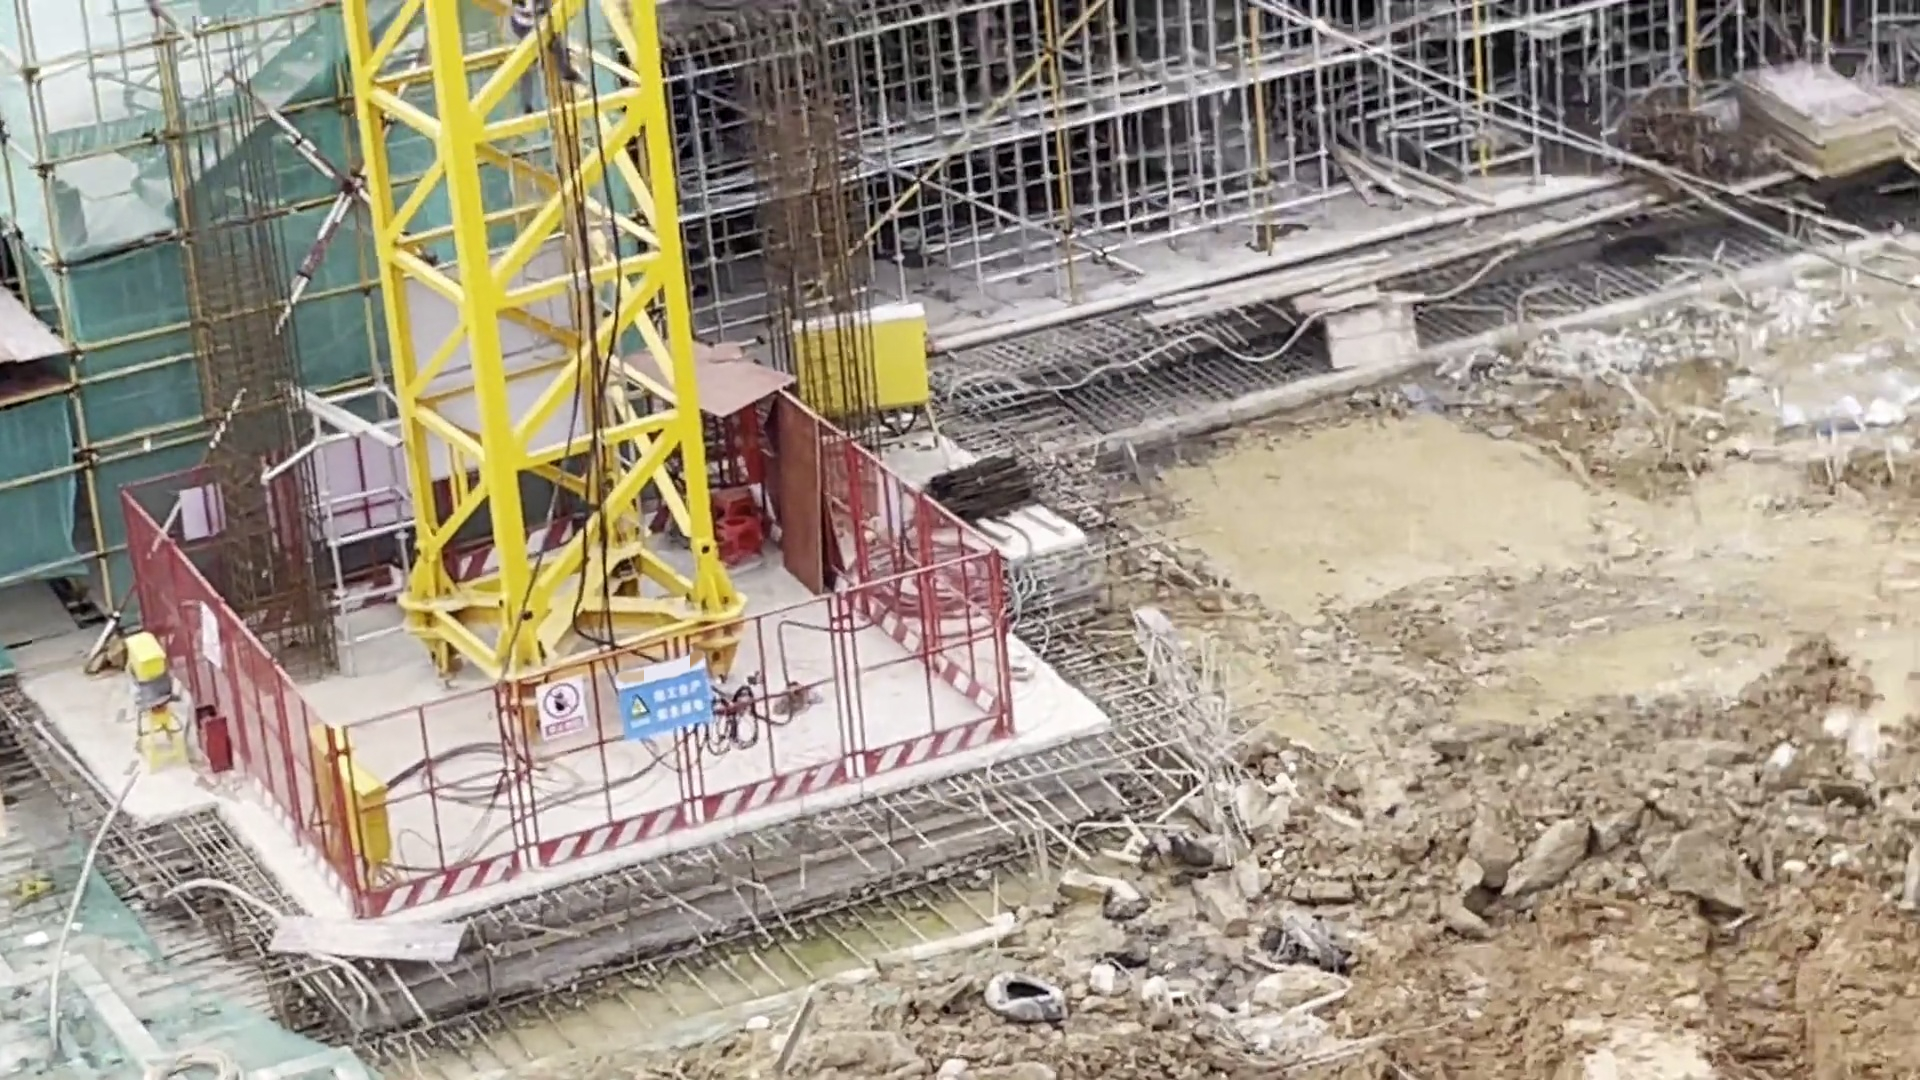board: (1737, 59, 1882, 182)
ebox: (791, 308, 927, 416), (313, 730, 389, 888), (123, 628, 181, 773)
fence: (818, 428, 996, 707), (352, 674, 510, 909), (692, 586, 847, 812), (532, 643, 687, 858), (860, 560, 1004, 769), (122, 498, 234, 761), (228, 627, 340, 882)
person: (511, 1, 576, 114)
slogan: (611, 656, 712, 732), (530, 676, 584, 732)
